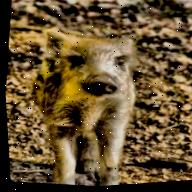boar: (12, 14, 149, 191)
